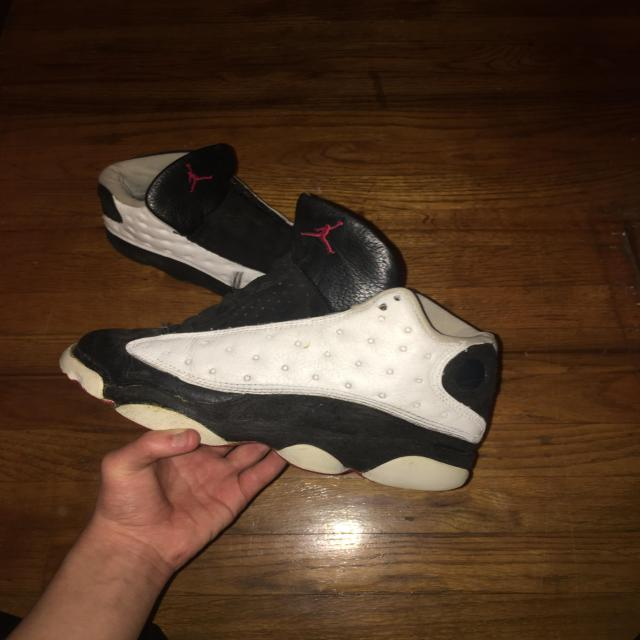shoe: (60, 225, 503, 491), (95, 142, 291, 286)
